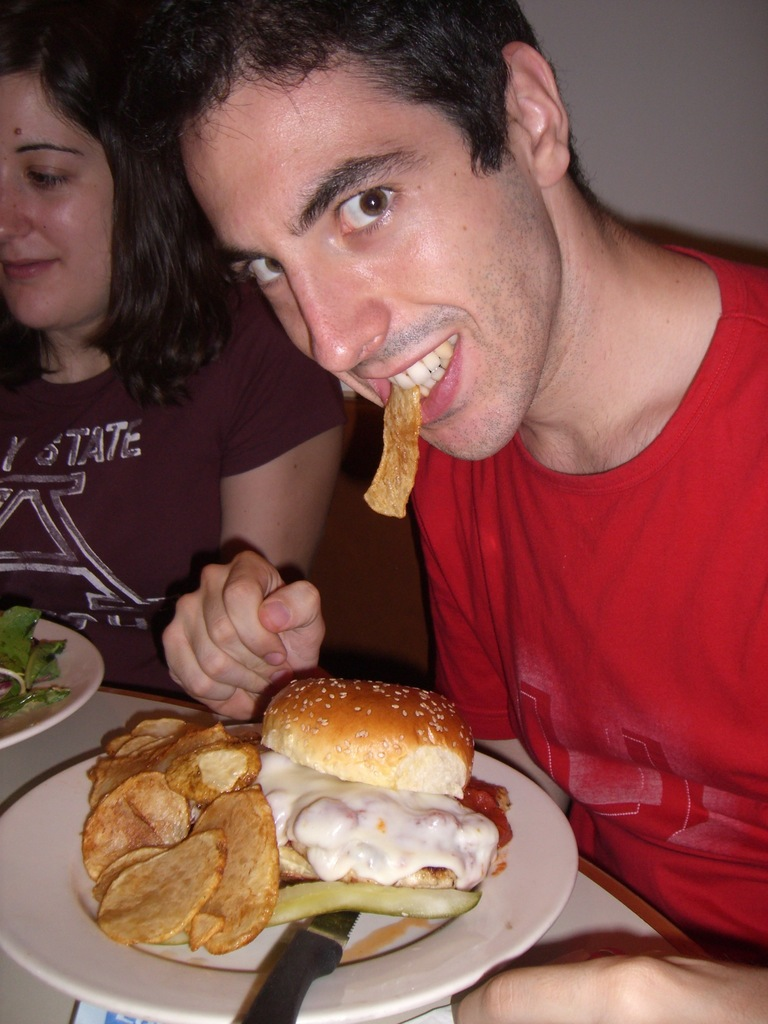Hamburger: (240, 676, 517, 909)
